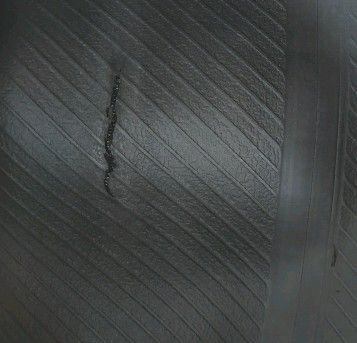CBU: (99, 54, 133, 203)
